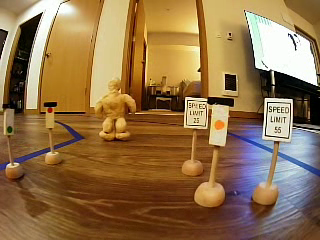Red traffic light: (37, 96, 62, 130)
green traffic light: (1, 96, 24, 142)
person: (92, 71, 138, 144)
speed limit 25: (180, 90, 207, 131)
speed limit 55: (260, 93, 295, 146)
yellow traffic light: (209, 94, 234, 150)
